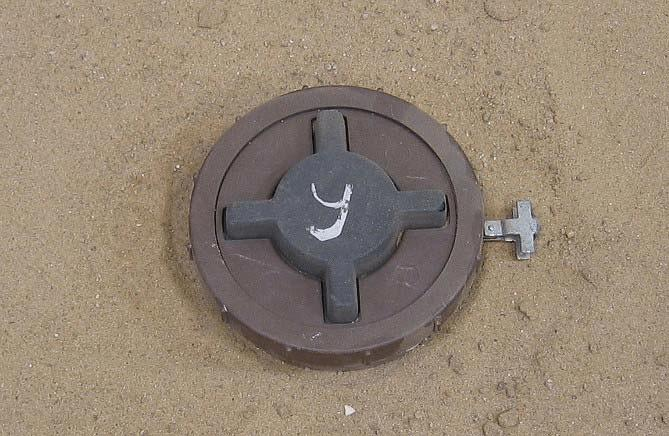pmn: (184, 81, 542, 374)
